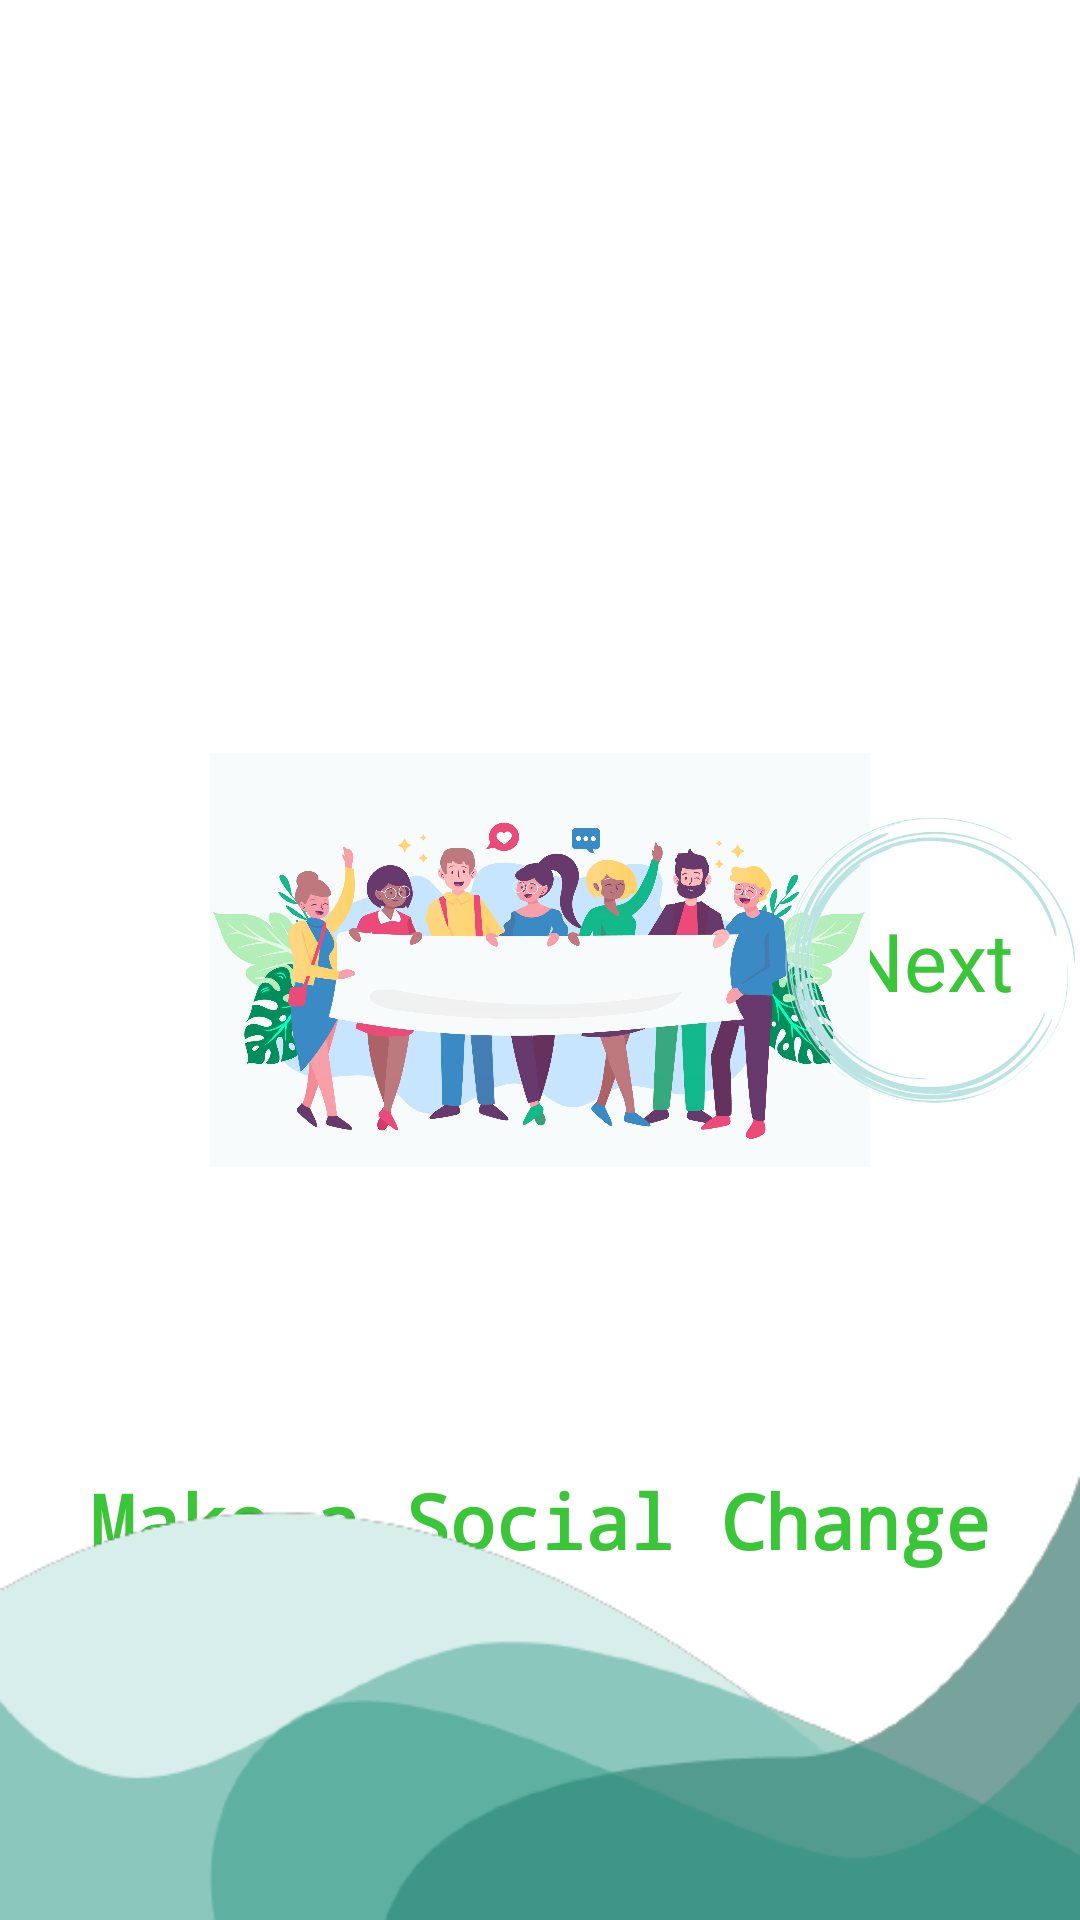

Named icons in this screenshot (1080*1920) and their centers, [x,y]:
circle: [927,960]
